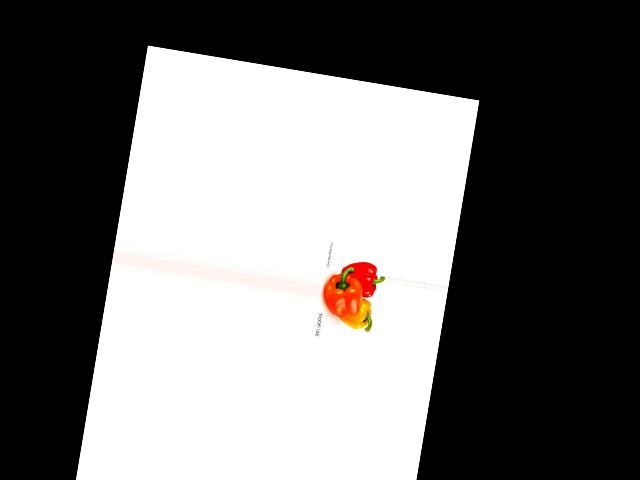bell_pepper: (335, 293, 378, 334)
